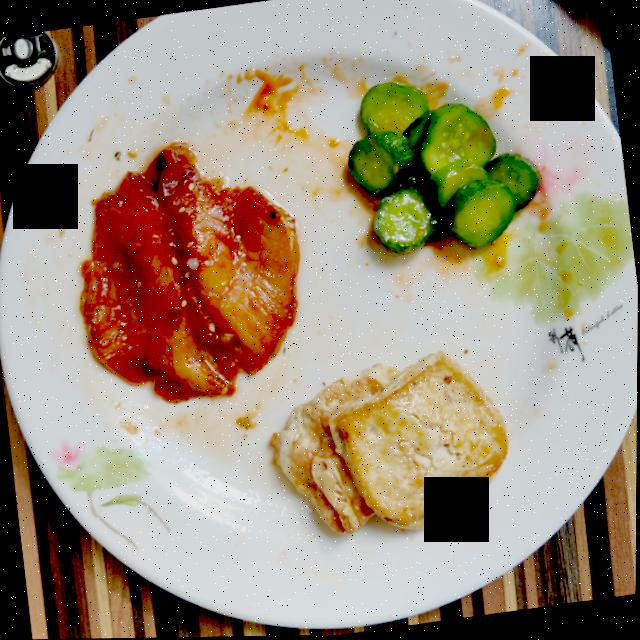Kabayaki sea bream fillet: (80, 141, 300, 402)
coin: (0, 31, 58, 88)
cucumber: (347, 83, 541, 255)
